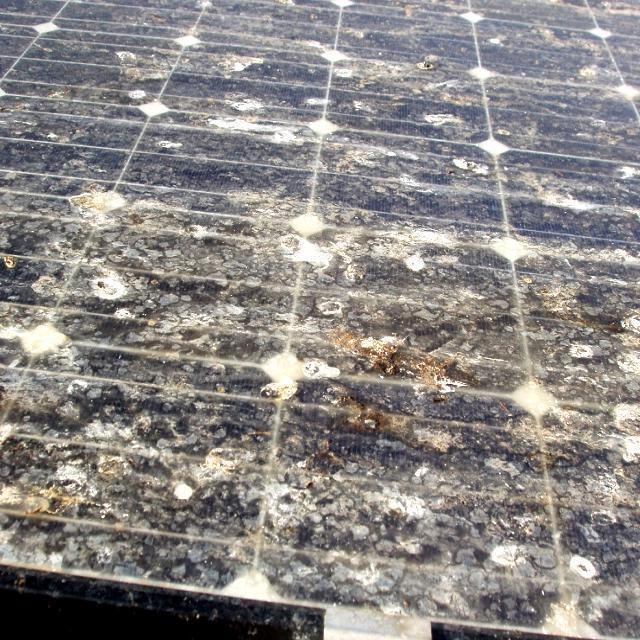soiled: (0, 1, 639, 635)
